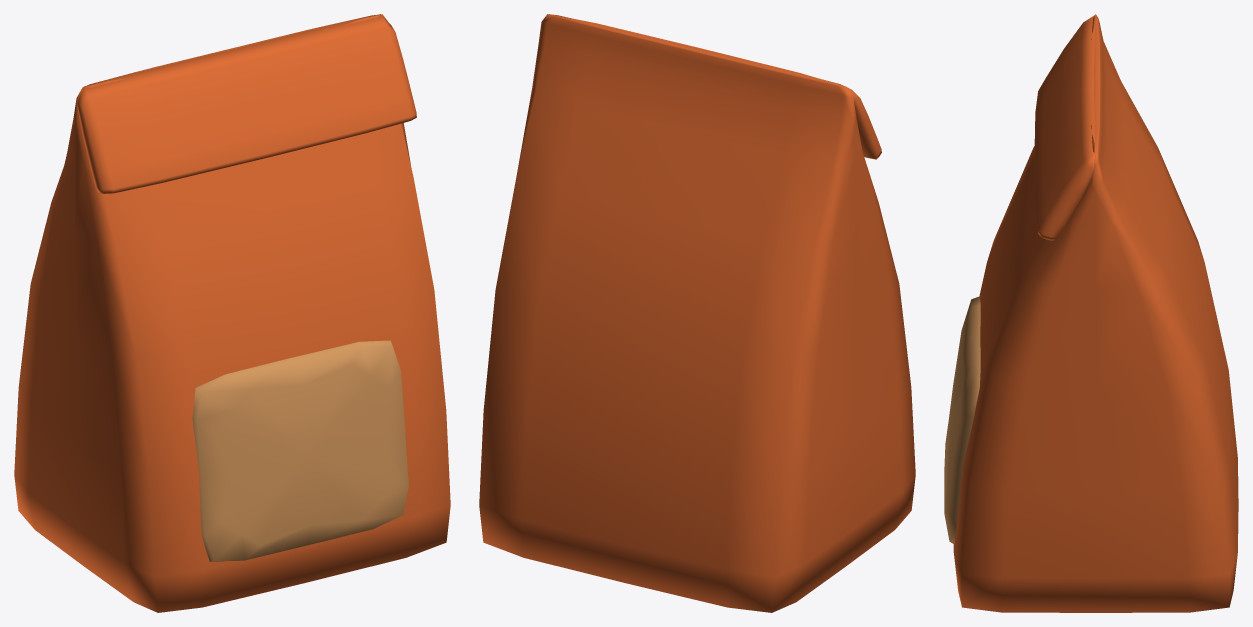
The model's file is SM_coffee_pack_red.glb.
3 renders of one model, left to right at view 1: azimuth 30°, elevation 25°; view 2: azimuth 150°, elevation 25°; view 3: azimuth 270°, elevation 25°, orthographic. The views are drawn at different scales.
Parts seen in each view (by area): view 1: SM_coffee_pack_red; view 2: SM_coffee_pack_red; view 3: SM_coffee_pack_red.
Boxes of the visible parts, bbox=[...] form: SM_coffee_pack_red: bbox=[14, 14, 450, 612]; SM_coffee_pack_red: bbox=[479, 14, 915, 612]; SM_coffee_pack_red: bbox=[944, 14, 1238, 612].
Bounding box in the file's own units: 0.2654 × 0.3941 × 0.2238.
1 material, 1 textured.
